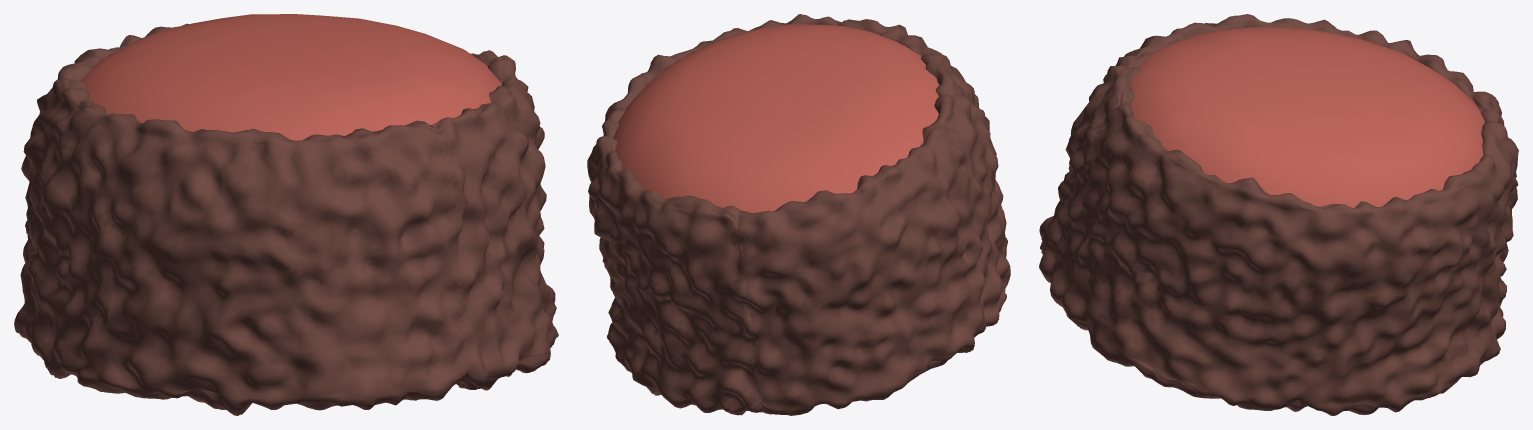
Rendered from COSSACK_CAP_2#30.glb.
3 renders of one model, left to right at view 1: azimuth 30°, elevation 25°; view 2: azimuth 150°, elevation 25°; view 3: azimuth 270°, elevation 25°, orthographic. The views are drawn at different scales.
Parts seen in each view (by area): view 1: казак_шапка_2_ур_поза_выставленная; view 2: казак_шапка_2_ур_поза_выставленная; view 3: казак_шапка_2_ур_поза_выставленная.
Part boxes in pixels (x1,y1,x2,y2): казак_шапка_2_ур_поза_выставленная: (14,14,558,415); казак_шапка_2_ур_поза_выставленная: (587,14,1010,415); казак_шапка_2_ур_поза_выставленная: (1039,14,1518,415).
Size of the model in its own units: 1.2 by 0.8515 by 1.31.
